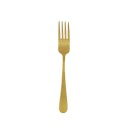Fork: (49, 17, 83, 117)
